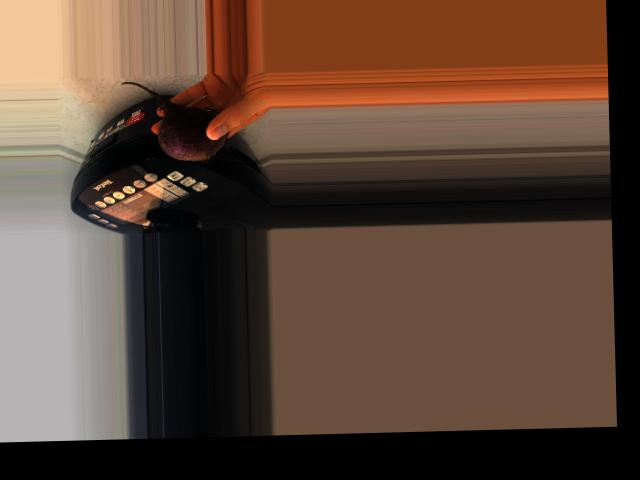beet: (121, 79, 228, 166)
